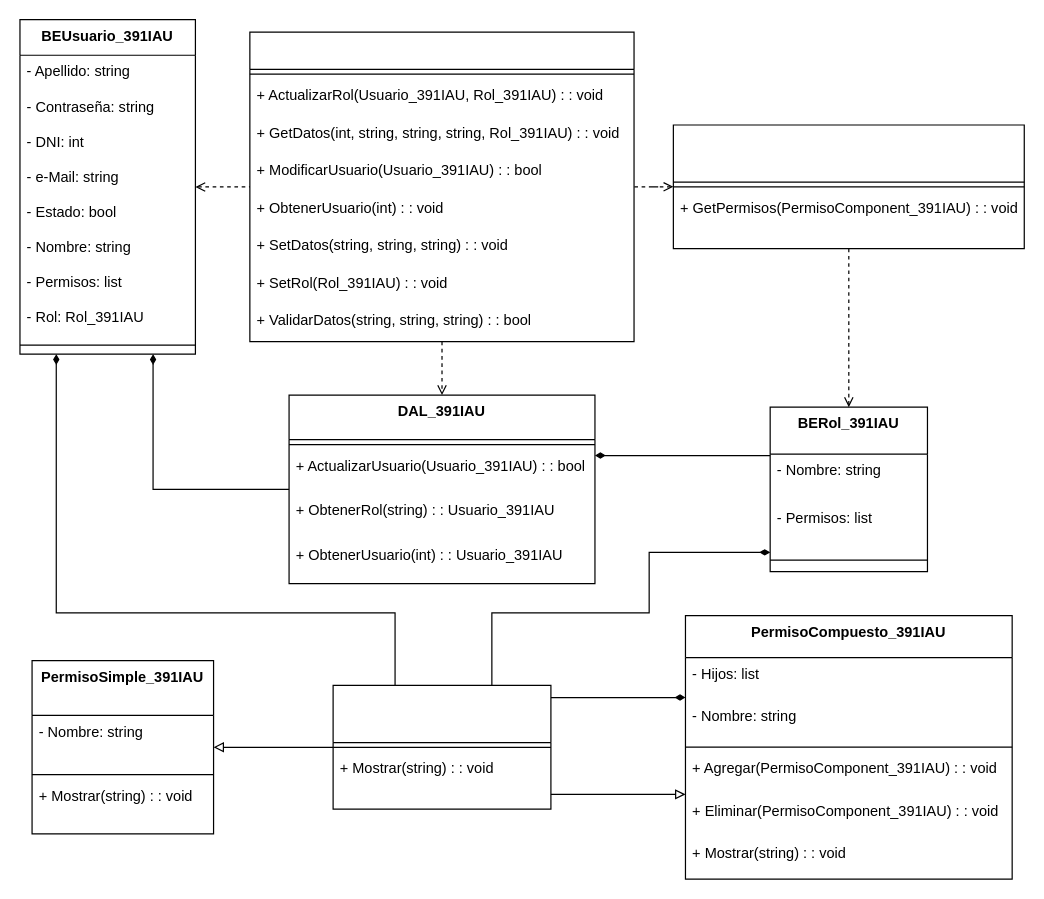
Some shapes in this 1044 by 899 pixel diagram are drawn without their labels. The shapes that lost their labels are listed below. From the top down, each one's box as (x1, y1, x2, y2) in pixels, then its label:
(249, 31, 634, 342): BLLUsuario_391IAU
(672, 124, 1024, 249): BLLRol_391IAU
(332, 684, 551, 809): PermisoComponent_391IAU
